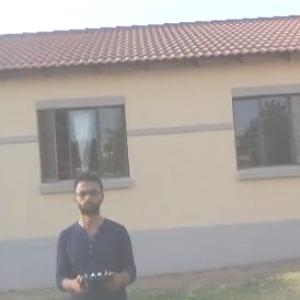follow: (51, 166, 142, 299)
